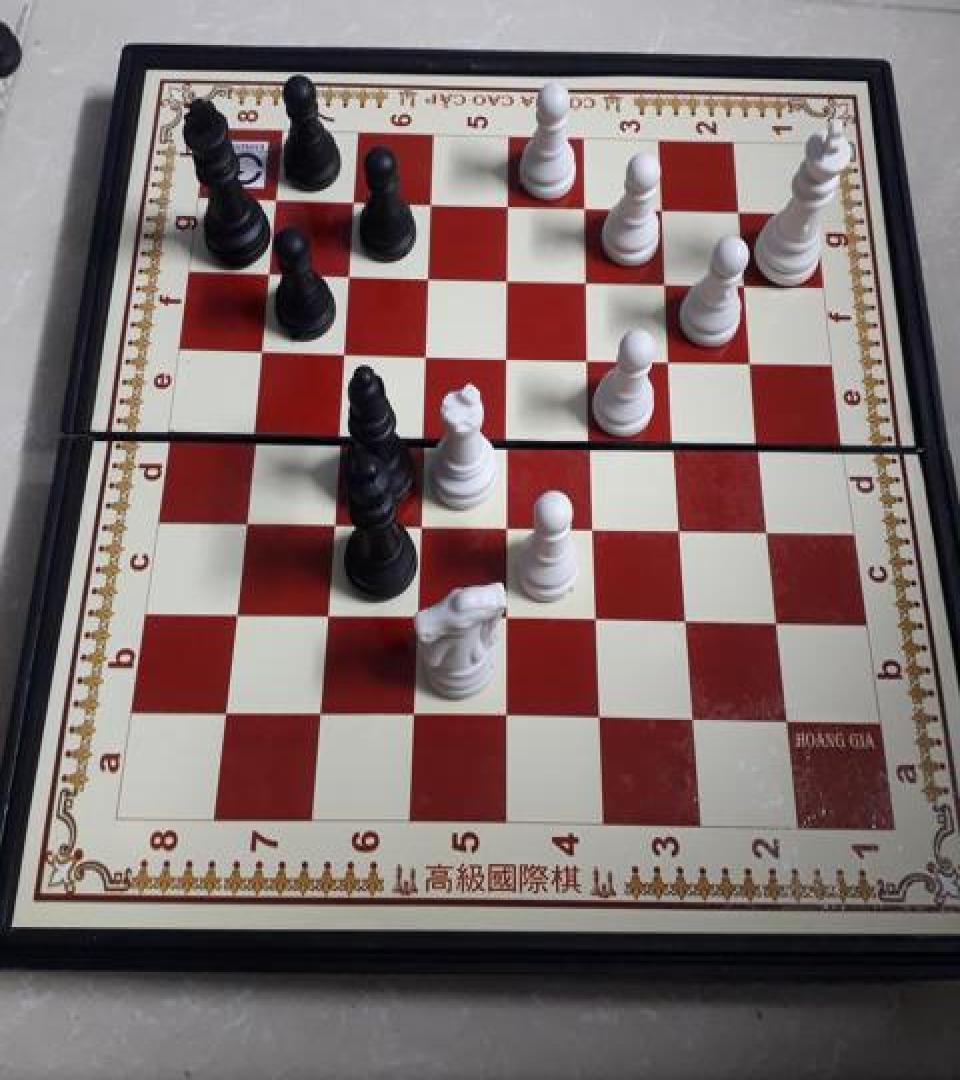xcorner: (587, 696, 619, 733), (680, 697, 712, 734), (774, 698, 806, 735), (210, 693, 242, 729), (304, 694, 336, 730), (399, 694, 431, 730), (493, 695, 525, 731), (220, 594, 252, 630), (311, 595, 343, 631), (402, 596, 434, 632), (494, 596, 526, 632), (584, 598, 616, 634), (675, 598, 707, 634), (765, 600, 797, 636), (229, 500, 261, 536), (318, 502, 350, 538), (406, 503, 438, 539), (494, 504, 526, 540), (582, 505, 614, 541), (670, 506, 702, 542), (758, 508, 790, 544), (238, 414, 270, 450), (324, 415, 356, 451), (410, 416, 442, 452), (495, 418, 527, 454), (580, 418, 612, 454), (665, 420, 697, 456), (750, 421, 782, 457), (247, 332, 279, 368), (330, 333, 362, 369), (413, 334, 445, 370), (496, 336, 528, 372), (578, 338, 610, 374), (661, 338, 693, 374), (743, 340, 775, 376), (255, 256, 287, 292), (335, 256, 367, 292), (416, 258, 448, 294), (496, 259, 528, 295), (577, 260, 609, 296), (657, 261, 689, 297), (737, 262, 769, 298), (262, 182, 294, 218), (340, 184, 372, 220), (497, 187, 529, 223), (575, 188, 607, 224), (653, 189, 685, 225), (730, 190, 762, 226), (419, 186, 451, 221)
